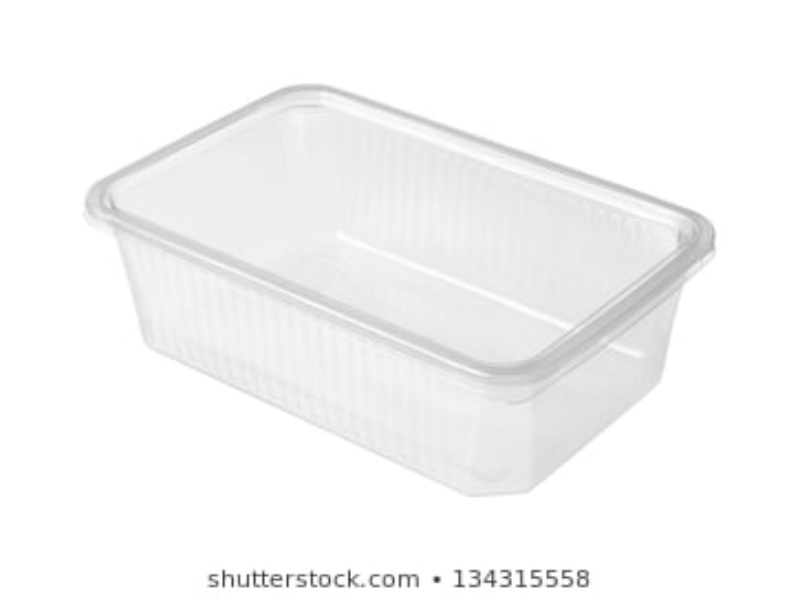plastic-container: (84, 84, 715, 501)
